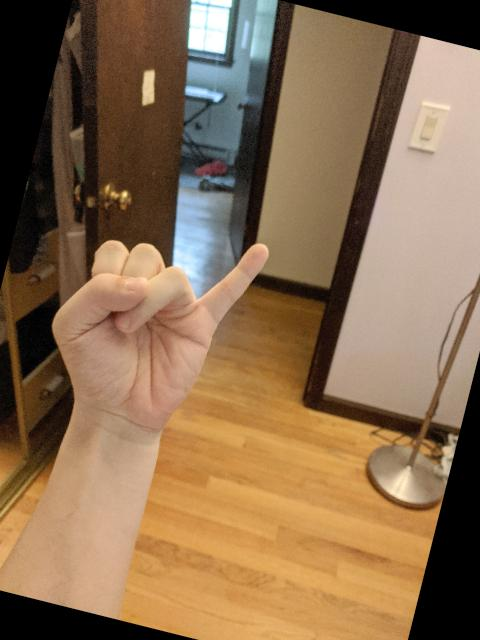I: (29, 192, 277, 450)
